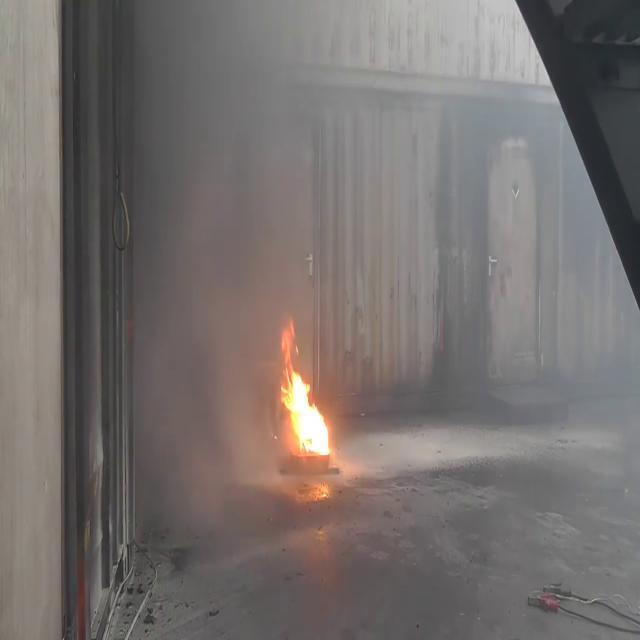Fire: (277, 323, 334, 460)
Smoke: (129, 4, 323, 522)
